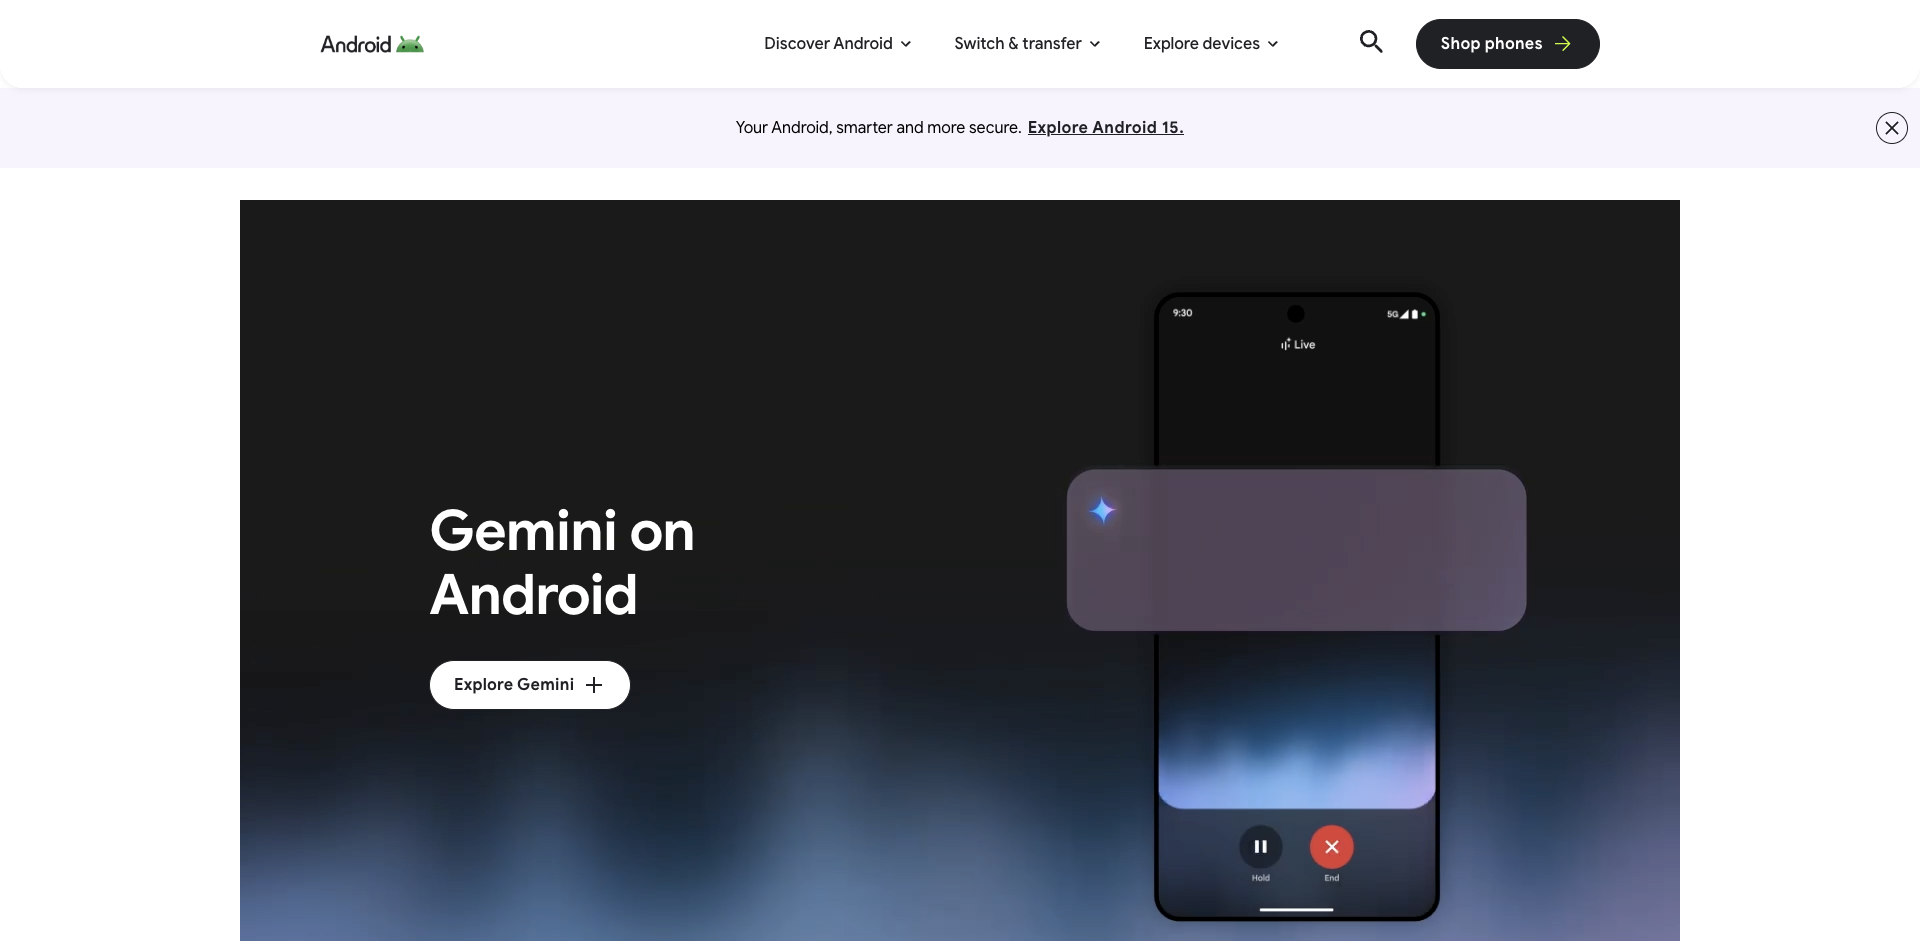button: (1416, 0, 1600, 88), (429, 660, 632, 709), (758, 26, 917, 62), (949, 26, 1106, 62), (1138, 26, 1283, 62), (1424, 20, 1458, 67), (1356, 26, 1387, 62), (1876, 111, 1908, 145)
dropdown: (762, 97, 958, 646), (1141, 92, 1347, 368), (951, 91, 1149, 276)
input: (1401, 32, 1411, 56)
link: (320, 0, 430, 88), (1416, 20, 1600, 69), (471, 0, 661, 29), (1171, 121, 1318, 157), (1171, 167, 1318, 202), (1171, 212, 1318, 248), (1171, 259, 1318, 293), (1171, 304, 1318, 338), (790, 262, 929, 298), (790, 308, 929, 343), (790, 490, 929, 526), (790, 535, 929, 571), (981, 165, 1119, 201), (981, 211, 1119, 246), (790, 126, 929, 161), (790, 172, 929, 206), (790, 217, 929, 251), (790, 354, 929, 388), (790, 399, 929, 434), (790, 445, 929, 479), (790, 582, 929, 616), (981, 120, 1119, 154), (1027, 116, 1184, 140)
menu_item: (1171, 121, 1318, 157), (1171, 167, 1318, 202), (1171, 212, 1318, 248), (1171, 259, 1318, 293), (1171, 304, 1318, 338), (790, 262, 929, 298), (790, 308, 929, 343), (790, 490, 929, 526), (790, 535, 929, 571), (981, 165, 1119, 201), (981, 211, 1119, 246), (790, 126, 929, 161), (790, 172, 929, 206), (790, 217, 929, 251), (790, 354, 929, 388), (790, 399, 929, 434), (790, 445, 929, 479), (790, 582, 929, 616), (981, 120, 1119, 154)
